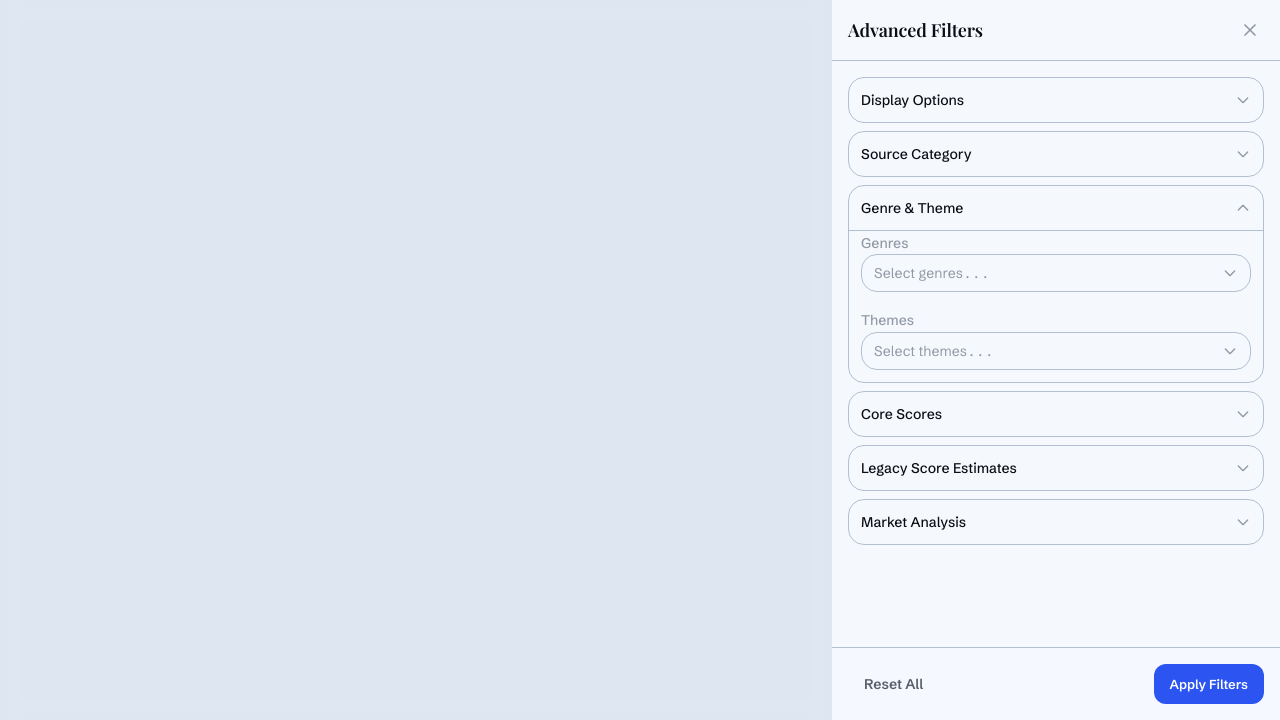
Test: FilterPanel › section headers › toggles section open/closed on click
The image size is (1280, 720).
Expected: the text "Genres" is shown, [861,234,908,252]
Note: Open Core Scores by clicking it
Click the button "Core Scores" at (902, 414), box [849,392,1263,436]
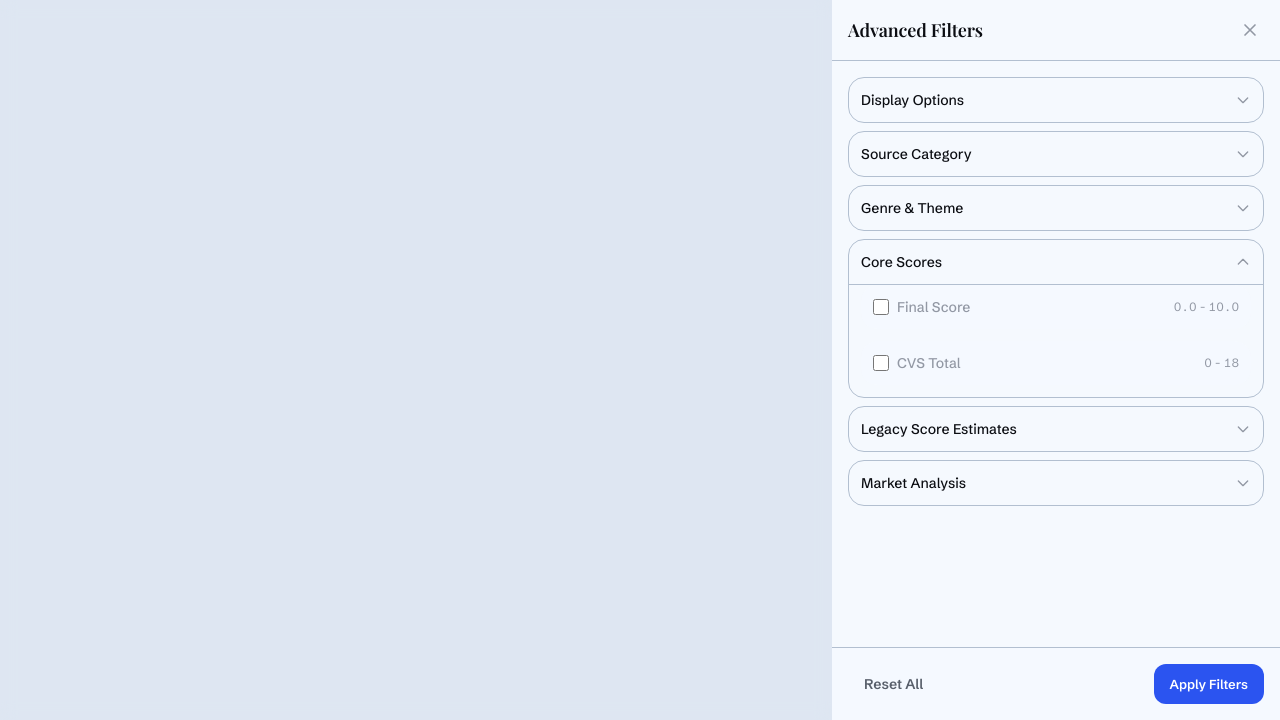
Now the text "Final Score" is shown, box [897,297,970,317]
Now the text "CVS Total" is shown, box [897,353,961,373]
